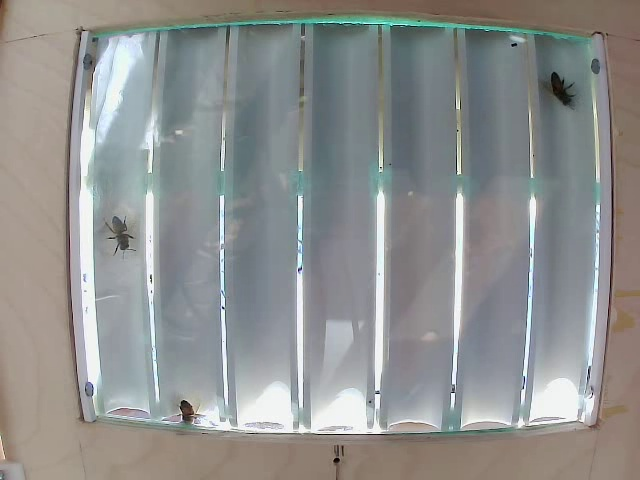bee: (108, 214, 150, 257), (541, 76, 566, 111)
